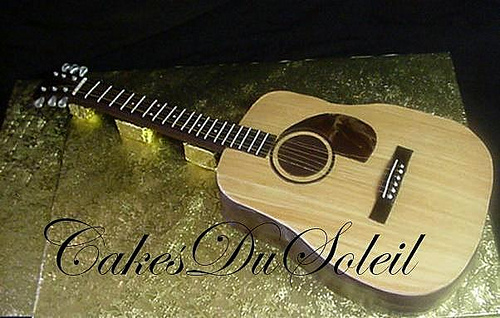guitar: (30, 60, 494, 314)
